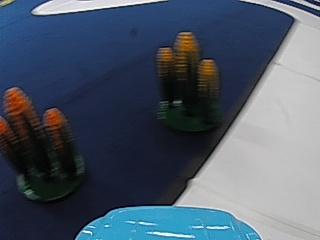corn: (7, 89, 87, 203), (157, 33, 221, 126)
